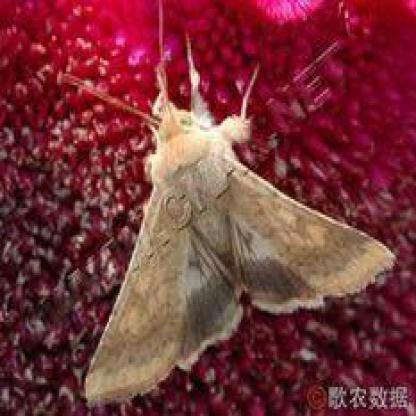armyworm: (62, 36, 412, 413)
